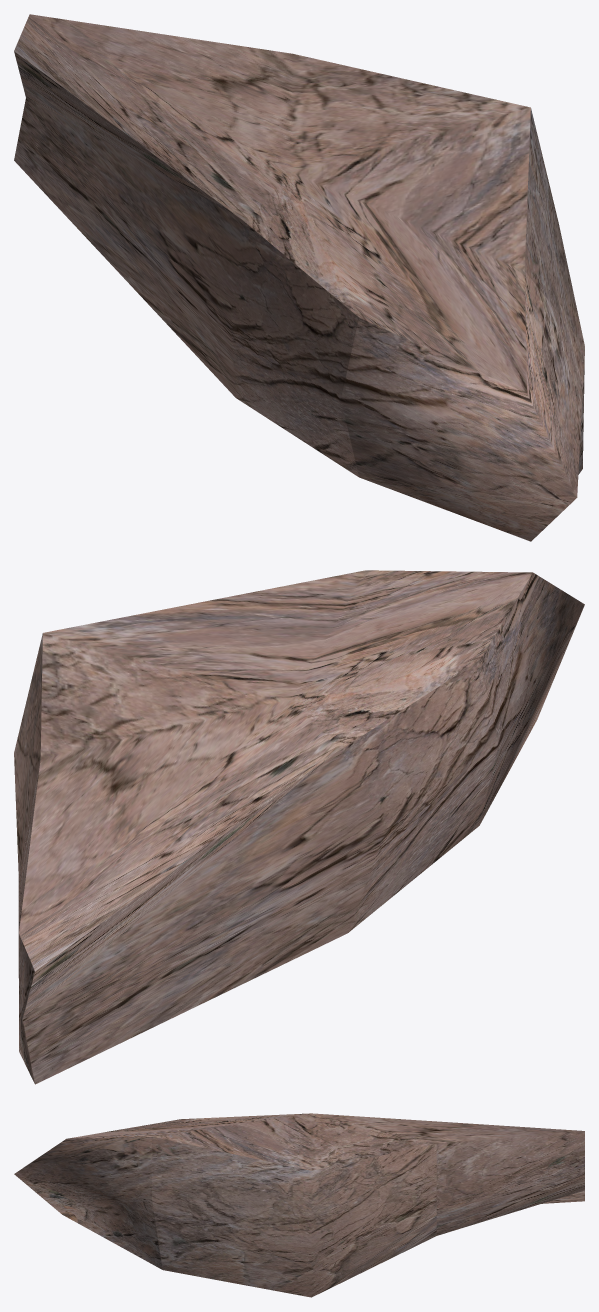
Rendered from SharpRock.fbx.
3 renders of one model, top to bottom at view 1: azimuth 30°, elevation 25°; view 2: azimuth 150°, elevation 25°; view 3: azimuth 270°, elevation 25°, orthographic. The views are drawn at different scales.
Parts seen in each view (by area): view 1: pCube5; view 2: pCube5; view 3: pCube5.
Part boxes in pixels (bbox=[...]): pCube5: bbox=[14, 14, 584, 541]; pCube5: bbox=[14, 570, 584, 1084]; pCube5: bbox=[14, 1113, 584, 1297].
Bounding box in the file's own units: 2.08 × 1.37 × 5.73.
1 material, 1 textured.
